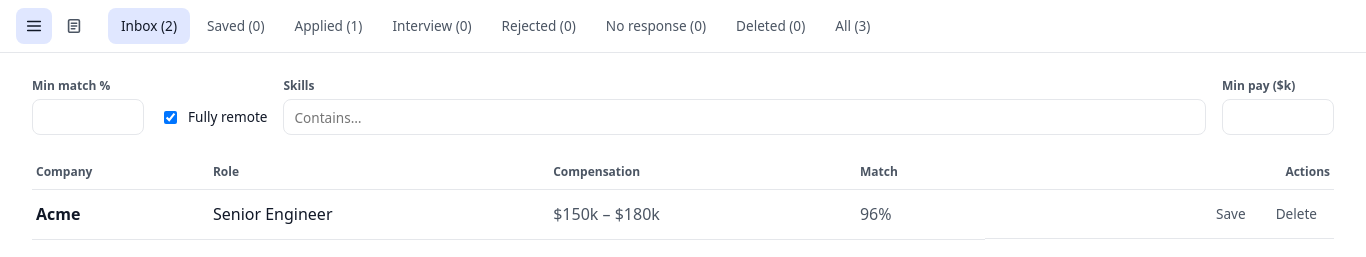
it: shows an alert if a background status update fails
Expected: the button "Acme" is shown, [36,198,201,230]
Click the button "Save".
click(1231, 214)  # box [1203,196,1259,232]
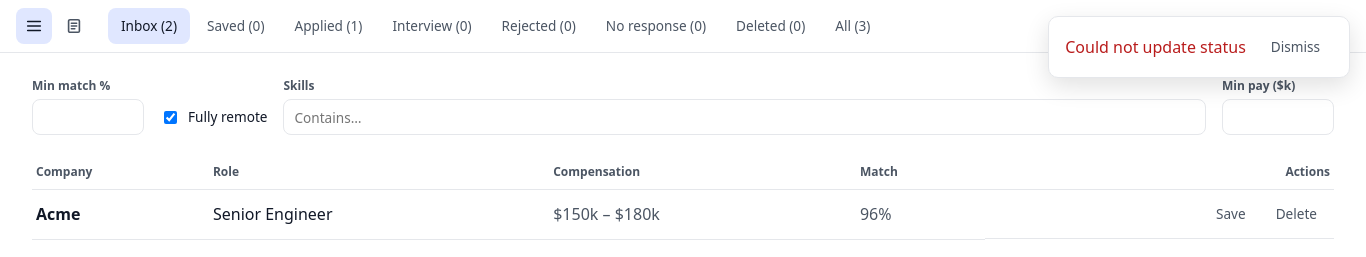
Expected: the button "Acme" is shown, [36,198,201,230]
Expected: the message shows "Could not update status", [1065,36,1246,58]
Click the button "Dismiss".
click(1295, 47)  # box [1258,29,1333,65]
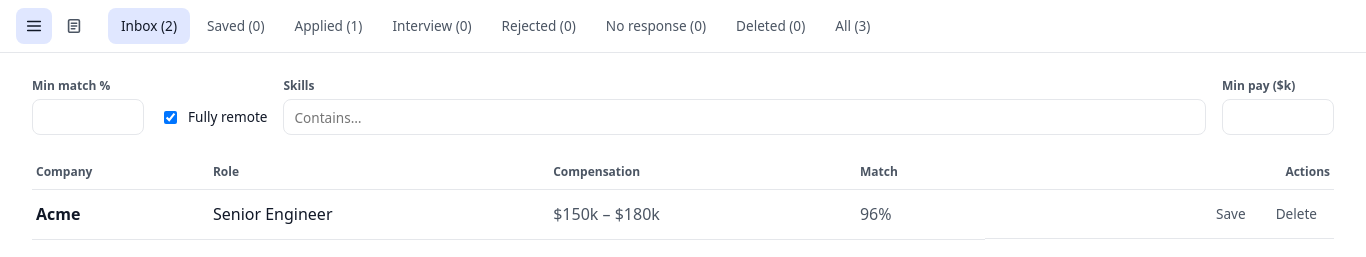
Expected: the message "Could not update status Dismiss" is gone
